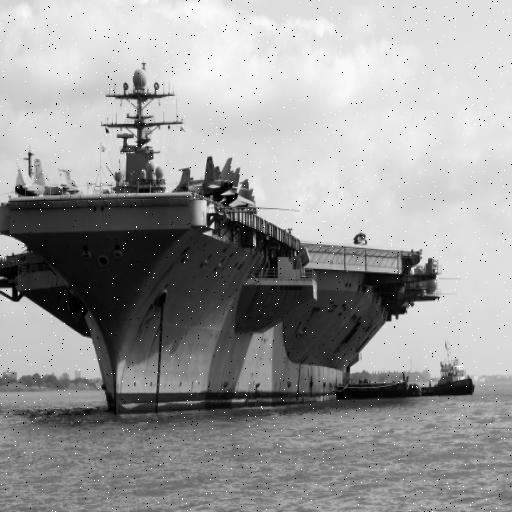Portanaves: (1, 49, 445, 423)
